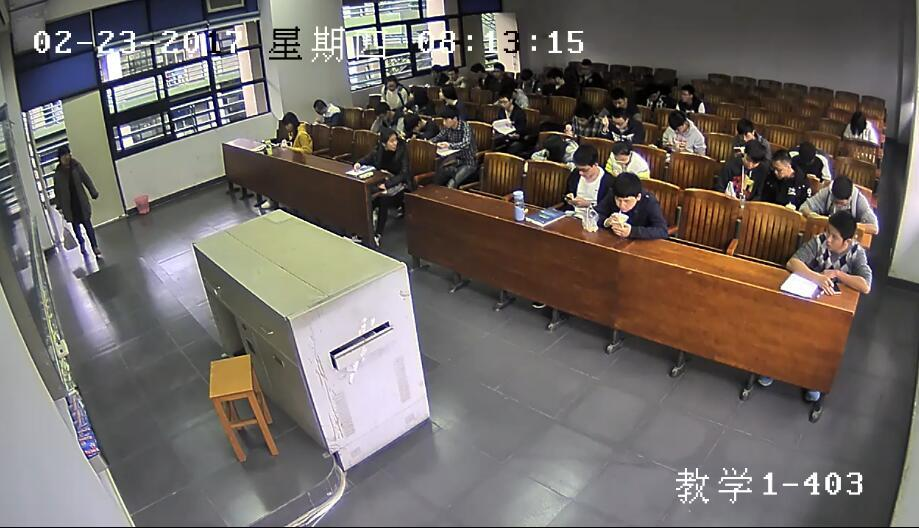head: (820, 206, 859, 251), (611, 173, 644, 213), (827, 172, 857, 208), (573, 140, 600, 179), (769, 144, 795, 182), (742, 137, 765, 169), (611, 139, 633, 170), (795, 138, 818, 165), (732, 116, 755, 142), (668, 109, 690, 135), (540, 131, 562, 156), (380, 127, 401, 153), (435, 80, 458, 102), (607, 107, 629, 130), (407, 85, 429, 104), (573, 101, 592, 123), (642, 79, 661, 101), (609, 86, 627, 109), (283, 110, 301, 132), (404, 110, 422, 132), (849, 109, 866, 132), (56, 144, 74, 164), (374, 100, 392, 120), (678, 82, 696, 102), (442, 106, 459, 127), (494, 90, 511, 110), (384, 71, 400, 92), (313, 96, 329, 115), (469, 63, 485, 79), (545, 66, 561, 82), (500, 78, 515, 94), (489, 61, 503, 77), (428, 63, 441, 78), (518, 67, 531, 82), (446, 65, 459, 79), (579, 56, 590, 70)
